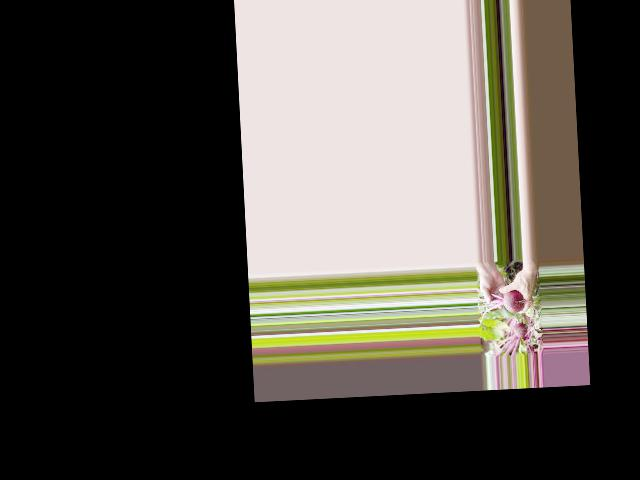beet: (477, 288, 525, 327)
